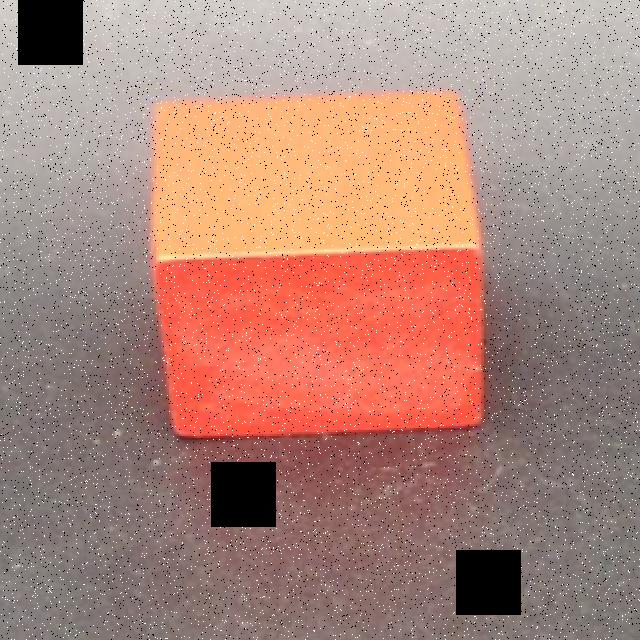red cube: (148, 89, 486, 440)
